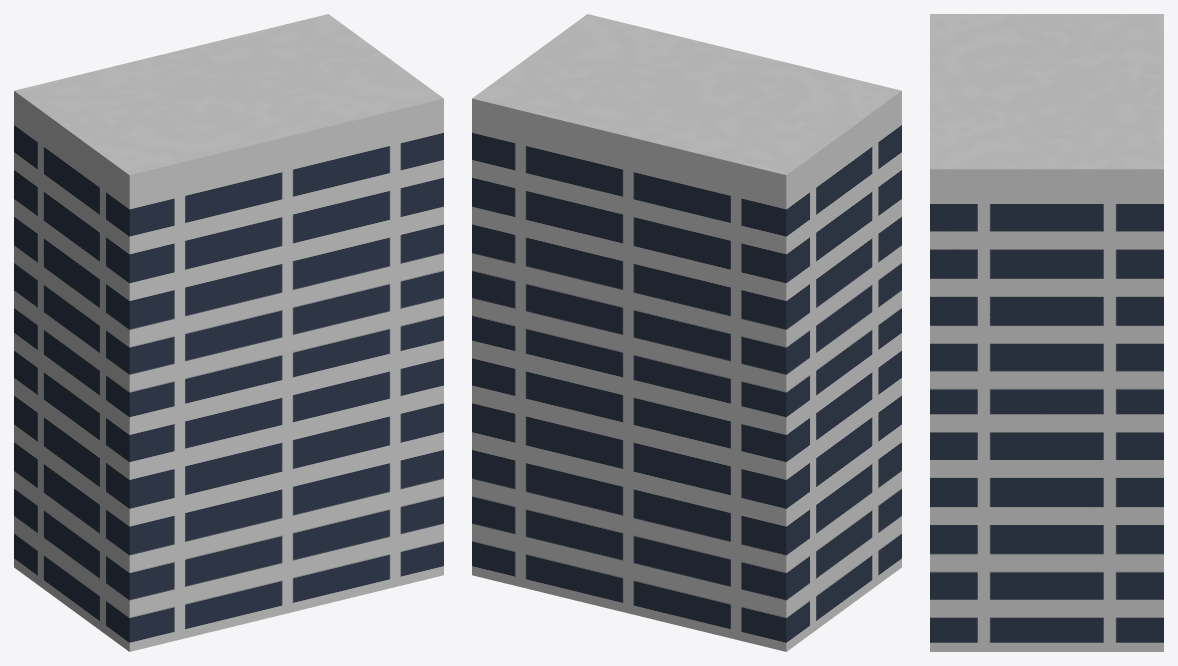
The model's file is Building_S_W6_b_001.fbx.
3 views of the same model, side by side, from view 1: azimuth 30°, elevation 25°; view 2: azimuth 150°, elevation 25°; view 3: azimuth 270°, elevation 25° (orthographic).
Visible parts, largest first — view 1: Building_S_W6_002; view 2: Building_S_W6_002; view 3: Building_S_W6_002.
Boxes of the visible parts, x1,y1,x2,y2 form: Building_S_W6_002: (14, 14, 443, 651); Building_S_W6_002: (472, 14, 901, 651); Building_S_W6_002: (930, 14, 1163, 651).
Size of the model in its own units: 32.15 by 46.57 by 20.45.
